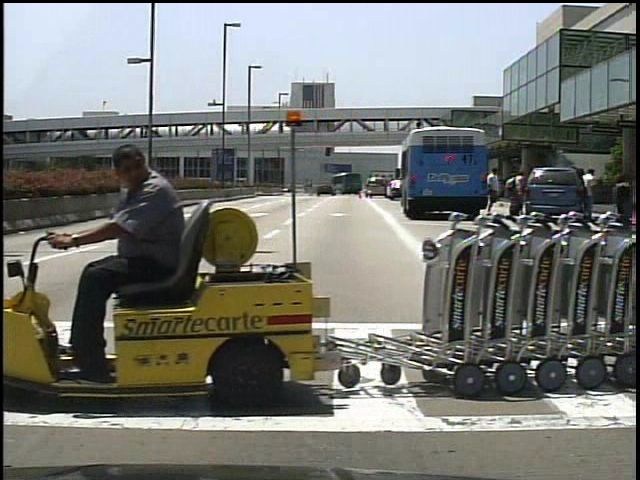person: (82, 140, 196, 379), (506, 166, 526, 219), (580, 165, 601, 214), (487, 165, 504, 217)
